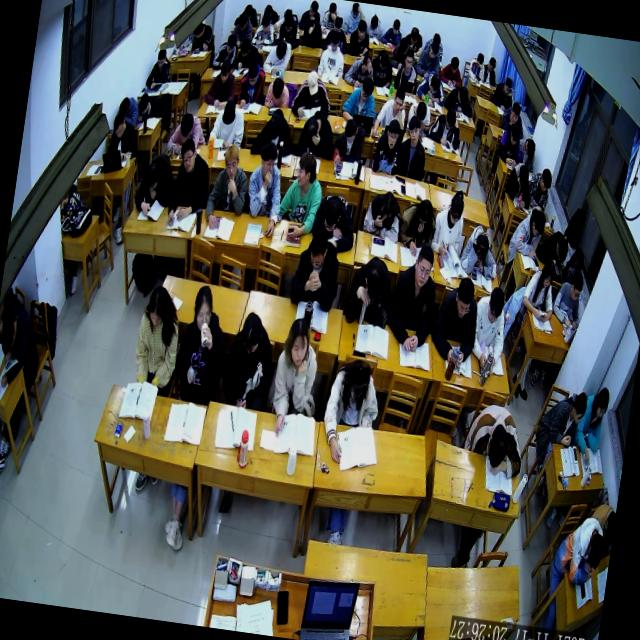bow: (460, 397, 531, 478), (308, 188, 361, 254), (132, 150, 179, 221), (293, 105, 340, 167), (249, 102, 299, 160), (458, 220, 504, 280), (164, 108, 210, 160), (413, 68, 449, 110), (535, 228, 571, 270), (342, 51, 378, 90), (442, 82, 478, 120), (136, 89, 170, 124), (188, 20, 218, 55), (298, 13, 326, 50), (114, 94, 141, 128), (243, 1, 262, 28)
down: (0, 299, 47, 392), (145, 42, 174, 90), (144, 285, 170, 331), (362, 258, 389, 302), (452, 273, 478, 318), (306, 226, 331, 272), (239, 310, 264, 356), (348, 356, 373, 400), (585, 527, 608, 569), (322, 192, 344, 234), (485, 286, 506, 326), (592, 386, 612, 421), (142, 162, 163, 194), (0, 318, 18, 355), (569, 391, 588, 426), (378, 188, 398, 221), (447, 194, 466, 228), (472, 232, 492, 264), (301, 114, 321, 144), (568, 271, 586, 304), (540, 259, 558, 291), (415, 196, 434, 226), (529, 210, 547, 241), (304, 66, 322, 96), (220, 95, 238, 125), (266, 109, 284, 139), (342, 118, 360, 147), (359, 74, 377, 102), (178, 112, 196, 140), (553, 237, 570, 266), (217, 56, 233, 86), (246, 57, 262, 87), (111, 112, 128, 140), (539, 163, 554, 193), (137, 92, 153, 118), (270, 76, 286, 102), (392, 86, 406, 115), (224, 32, 238, 58), (517, 162, 531, 188), (508, 100, 522, 126), (444, 104, 459, 128), (509, 121, 523, 146), (328, 30, 342, 54), (427, 36, 441, 60), (429, 70, 443, 94), (274, 40, 289, 62), (331, 153, 345, 176), (302, 12, 316, 34), (239, 36, 253, 58), (414, 100, 428, 122), (359, 54, 374, 74), (354, 20, 368, 41), (259, 12, 271, 36), (119, 92, 132, 114), (191, 20, 205, 40), (456, 83, 469, 104), (524, 136, 537, 157), (156, 48, 168, 70), (332, 15, 344, 36), (378, 48, 390, 69), (236, 12, 248, 32), (449, 54, 461, 74), (284, 12, 295, 32), (409, 26, 420, 46), (502, 74, 513, 94), (327, 1, 338, 20), (369, 13, 380, 32), (308, 0, 320, 17), (392, 18, 402, 38), (474, 51, 484, 70), (487, 56, 497, 74)
lookup: (283, 316, 313, 370), (191, 282, 217, 332), (412, 242, 436, 289), (178, 135, 200, 173), (221, 141, 242, 179), (384, 115, 402, 150), (406, 111, 423, 144), (403, 48, 416, 73)
sit: (266, 313, 328, 442), (170, 282, 233, 408), (318, 352, 386, 466), (383, 240, 445, 354), (218, 304, 281, 409), (130, 284, 187, 398), (428, 270, 486, 368), (275, 144, 329, 240), (288, 222, 346, 311), (242, 136, 291, 239), (548, 511, 610, 592), (200, 136, 252, 232), (166, 134, 217, 230), (341, 249, 397, 332), (465, 284, 512, 378), (534, 381, 590, 447), (571, 382, 613, 468), (428, 185, 469, 257), (396, 192, 441, 256), (520, 256, 560, 324), (288, 68, 336, 124), (395, 108, 432, 179), (206, 95, 249, 154), (338, 72, 381, 130), (362, 184, 406, 240), (508, 202, 549, 262), (370, 83, 410, 144), (550, 266, 586, 330), (370, 115, 406, 177), (330, 115, 369, 168), (204, 56, 240, 112), (105, 110, 144, 160), (236, 55, 270, 110), (427, 99, 465, 148), (503, 157, 536, 212), (317, 26, 350, 76), (392, 46, 423, 94), (524, 162, 554, 209), (210, 28, 240, 74), (494, 118, 524, 164), (261, 38, 294, 78), (404, 97, 434, 141), (416, 34, 444, 78), (368, 46, 398, 86), (274, 9, 304, 48), (499, 97, 528, 137), (262, 74, 294, 110), (346, 18, 374, 59), (322, 15, 351, 54), (234, 34, 262, 74), (439, 49, 467, 87), (230, 10, 256, 50), (252, 8, 278, 47), (388, 32, 412, 72), (378, 16, 406, 50), (491, 72, 516, 110), (297, 0, 324, 34), (516, 132, 540, 170), (342, 1, 366, 37), (317, 0, 340, 36), (466, 50, 488, 86), (404, 23, 426, 53), (365, 9, 386, 40), (481, 56, 501, 87), (243, 2, 254, 22)
